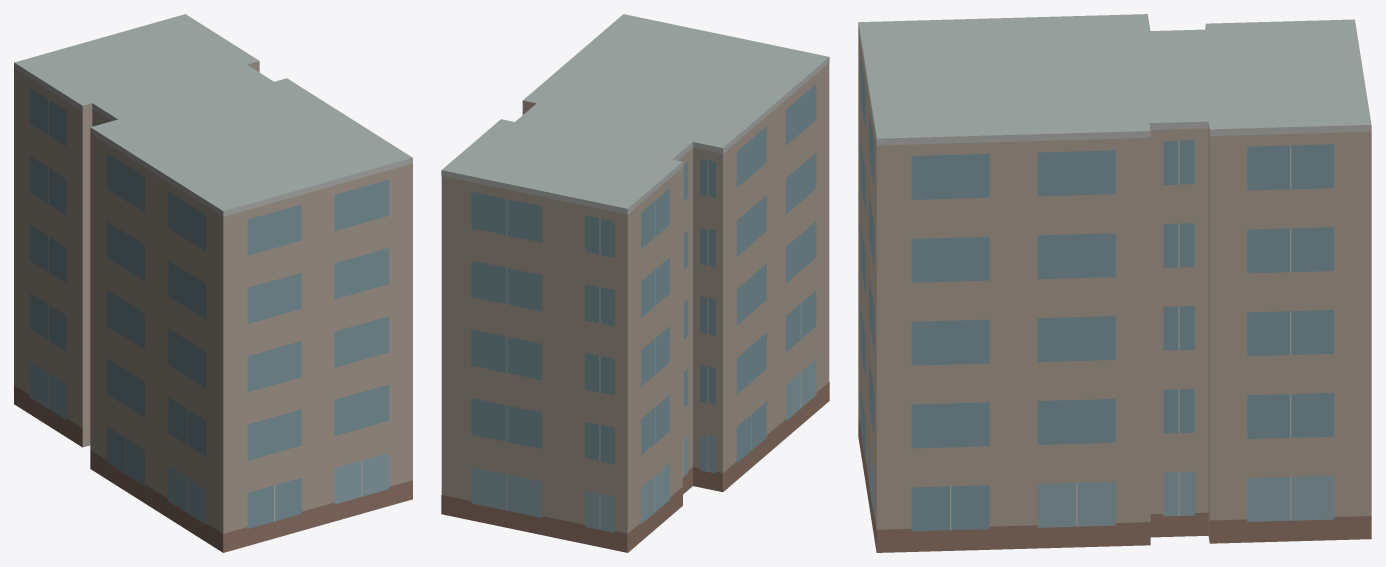
Rendered from survey-upis-32872579.glb.
3 renders of one model, left to right at view 1: azimuth 30°, elevation 25°; view 2: azimuth 150°, elevation 25°; view 3: azimuth 270°, elevation 25°, orthographic. The views are drawn at different scales.
Parts seen in each view (by area): view 1: survey-upis-32872579.tmp; view 2: survey-upis-32872579.tmp; view 3: survey-upis-32872579.tmp.
Part boxes in pixels (bbox=[...]): survey-upis-32872579.tmp: bbox=[14, 14, 412, 552]; survey-upis-32872579.tmp: bbox=[441, 14, 829, 552]; survey-upis-32872579.tmp: bbox=[858, 14, 1371, 552].
Bounding box in the file's own units: 9.5 × 14.7 × 16.52.
